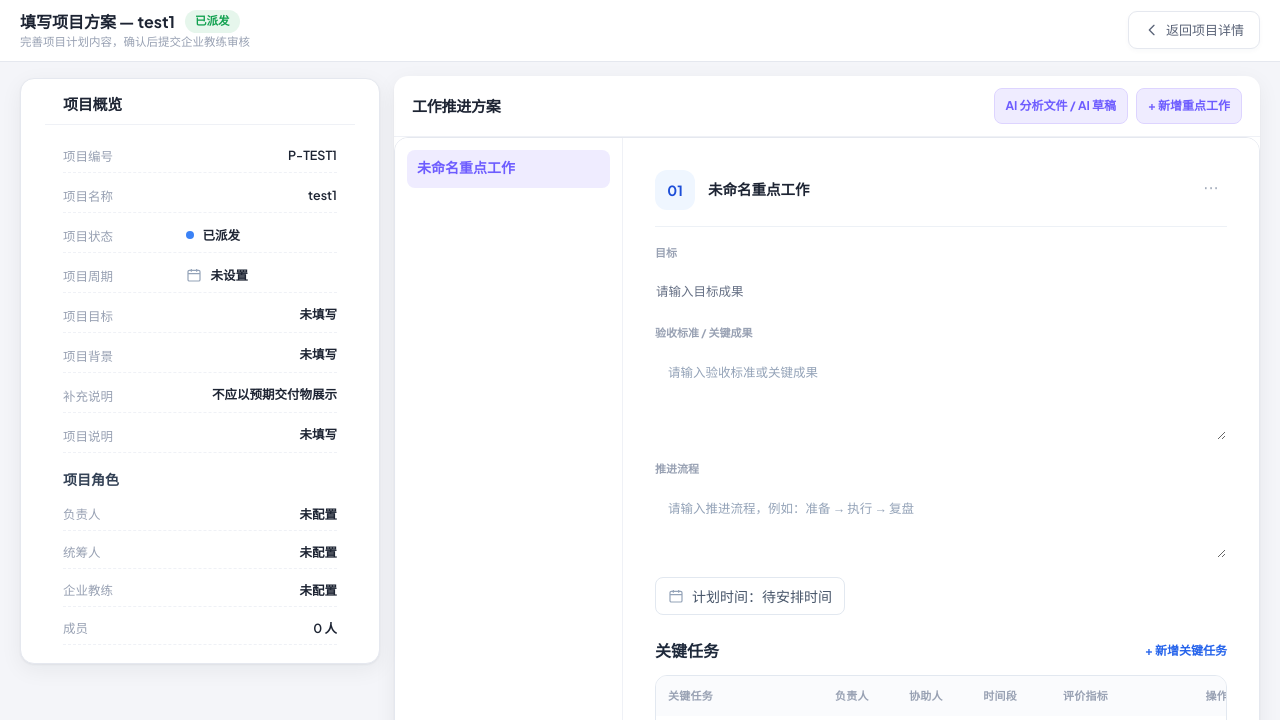
Test: owner submit approved B layout › selects a newly added workstream and returns to a valid selection after deletion
Check: the heading "项目概览" is shown, box [45,79,355,125]
Click the button "+ 新增重点工作". click: click(1189, 106)
box: [1136,88,1242,124]
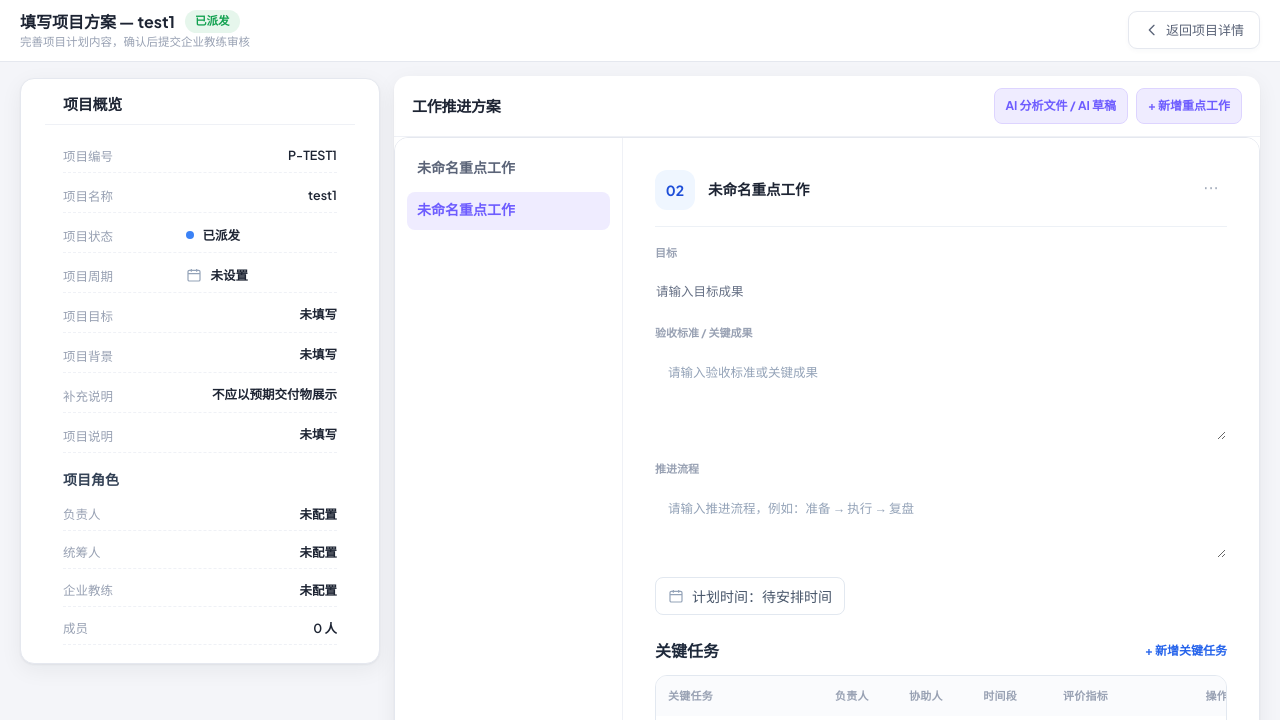
Check: the text "02" is shown, box [655,170,695,210]
Click the heading named "重点工作 2 更多操作". click: click(1211, 185)
box: [1203,174,1219,197]
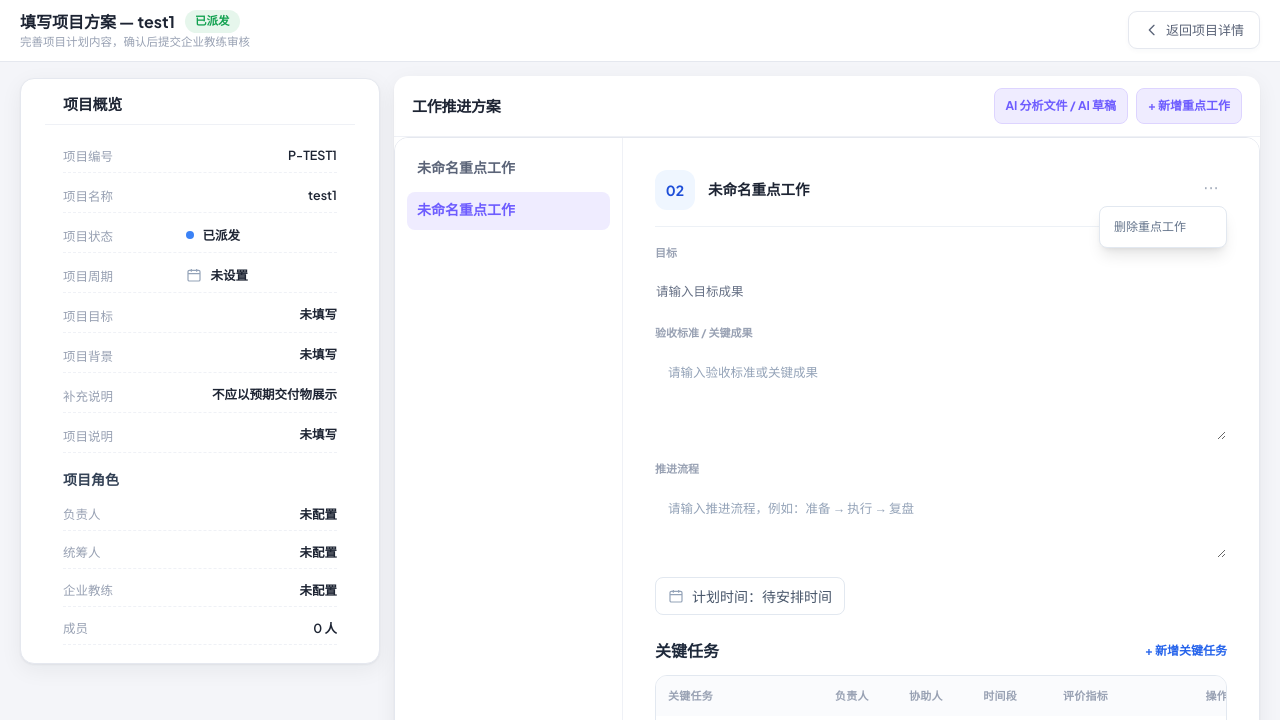
Click the button "删除重点工作". click: click(1163, 227)
box: [1104,211,1222,243]
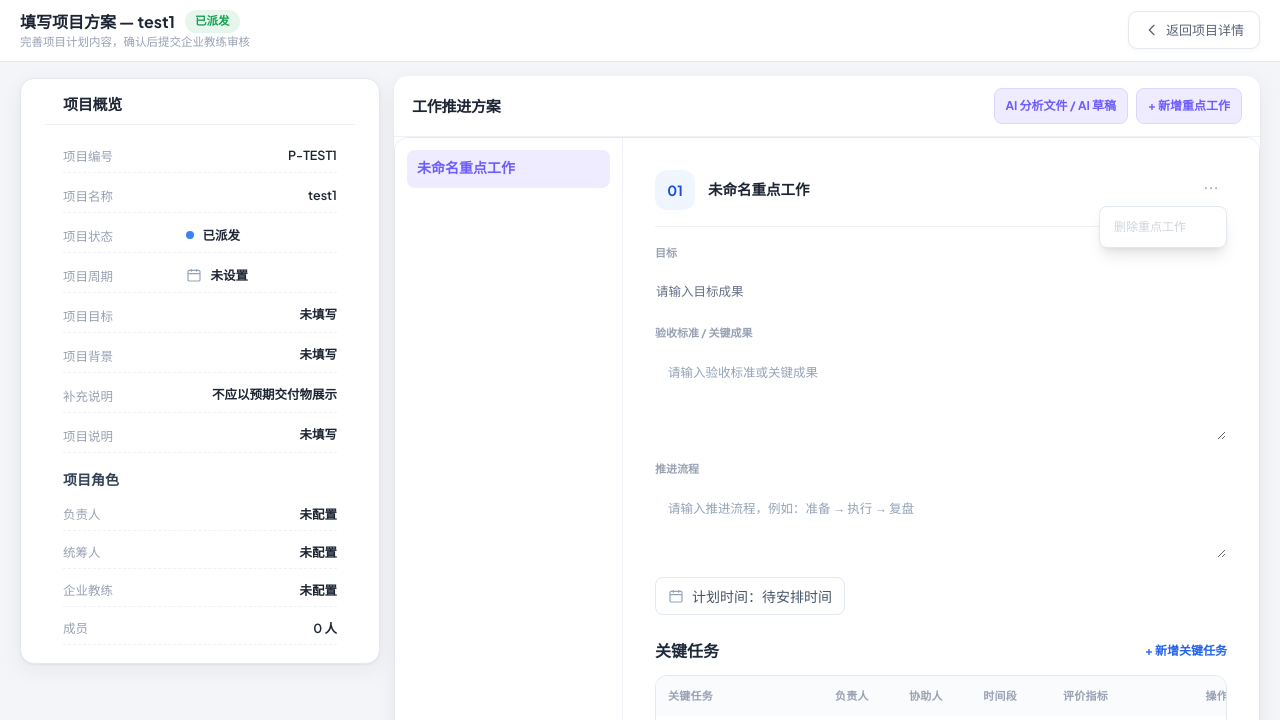
Check: the text "02" is gone
Check: the text "01" is shown, box [655,170,695,210]
